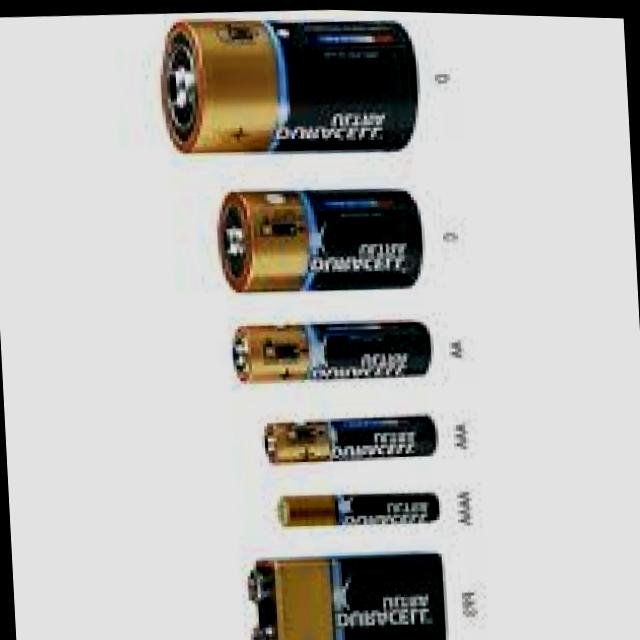B3: (153, 4, 422, 167), (214, 169, 430, 308), (222, 311, 434, 395), (254, 402, 446, 466), (272, 476, 440, 534)
